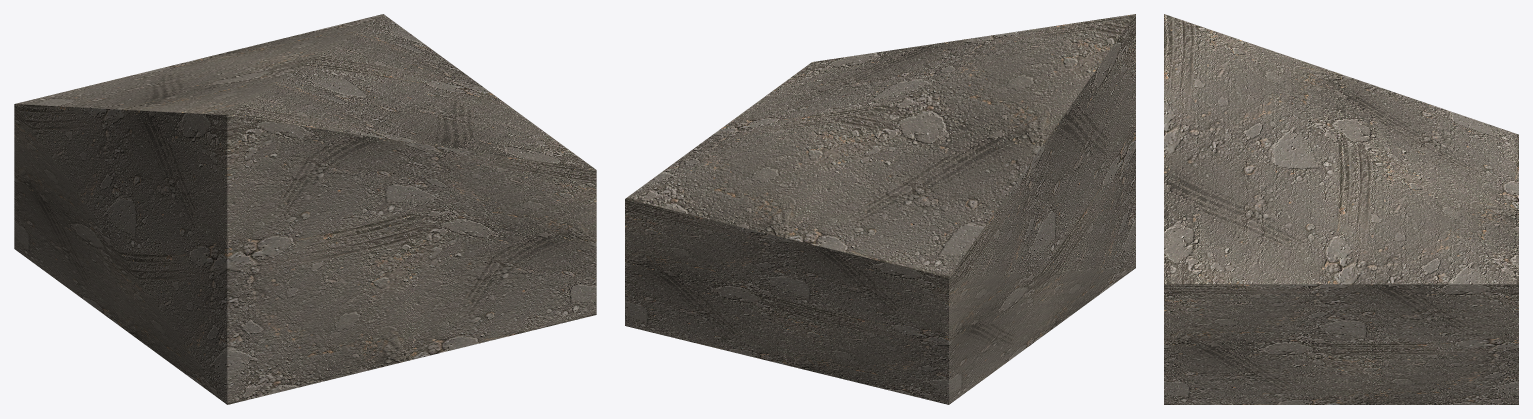
The model's file is asphalt_one_one.glb.
3 renders of one model, left to right at view 1: azimuth 30°, elevation 25°; view 2: azimuth 150°, elevation 25°; view 3: azimuth 270°, elevation 25°, orthographic. The views are drawn at different scales.
Parts seen in each view (by area): view 1: Cube.001; view 2: Cube.001; view 3: Cube.001.
Boxes of the visible parts, box(x1,y1,x2,y2) form: Cube.001: box(14, 14, 596, 404); Cube.001: box(625, 14, 1135, 404); Cube.001: box(1164, 14, 1518, 404).
Bounding box in the file's own units: 2 × 1.5 × 2.
1 material, 1 textured.
